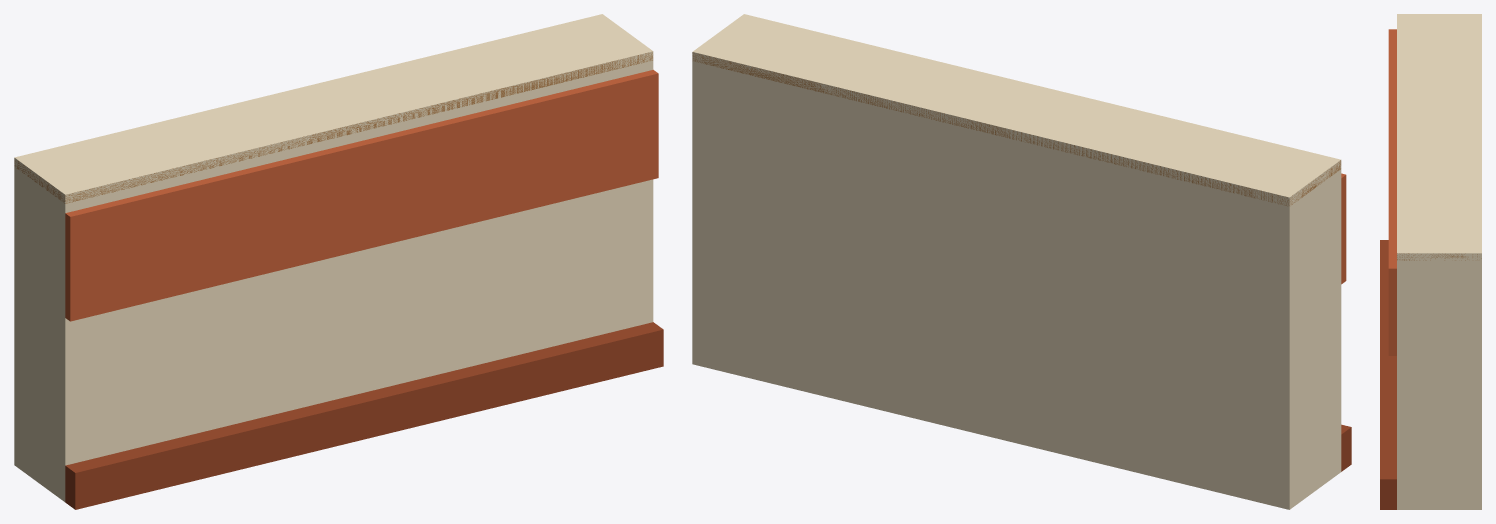
The model's file is wall.glb.
3 renders of one model, left to right at view 1: azimuth 30°, elevation 25°; view 2: azimuth 150°, elevation 25°; view 3: azimuth 270°, elevation 25°, orthographic. The views are drawn at different scales.
Visible parts, largest first — view 1: wall; view 2: wall; view 3: wall.
Boxes of the visible parts, x1,y1,x2,y2 form: wall: [14, 14, 663, 509]; wall: [692, 14, 1351, 509]; wall: [1380, 14, 1481, 509].
Size of the model in its own units: 1 by 0.5 by 0.18.
Materials: 1 (1 with a texture image).
